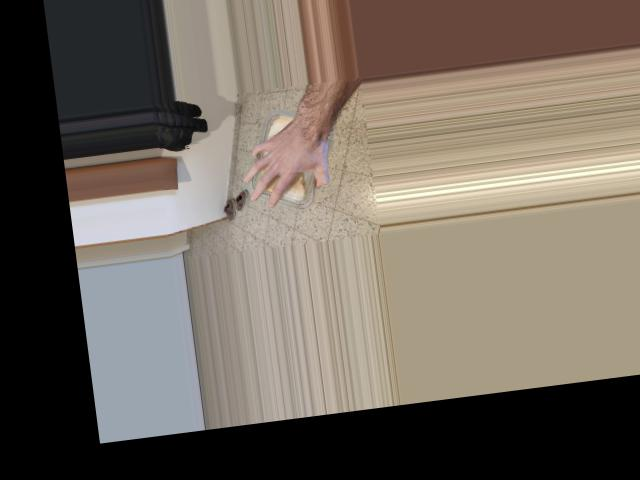cheese: (238, 107, 341, 211)
